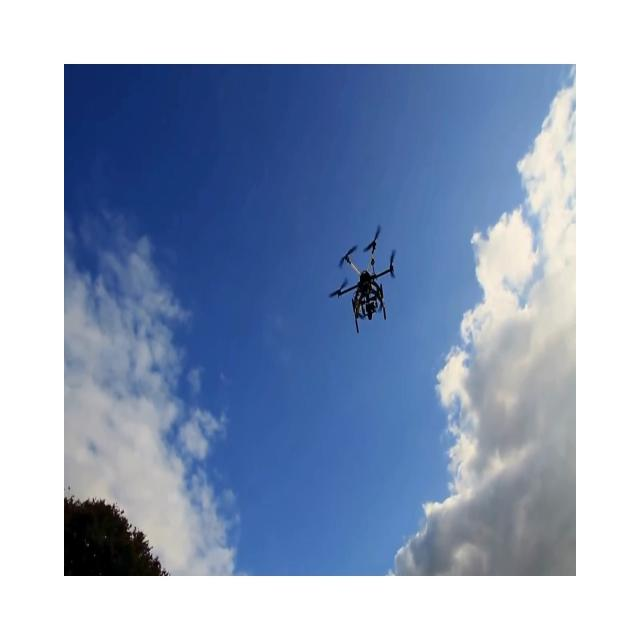drone: (328, 224, 396, 334)
